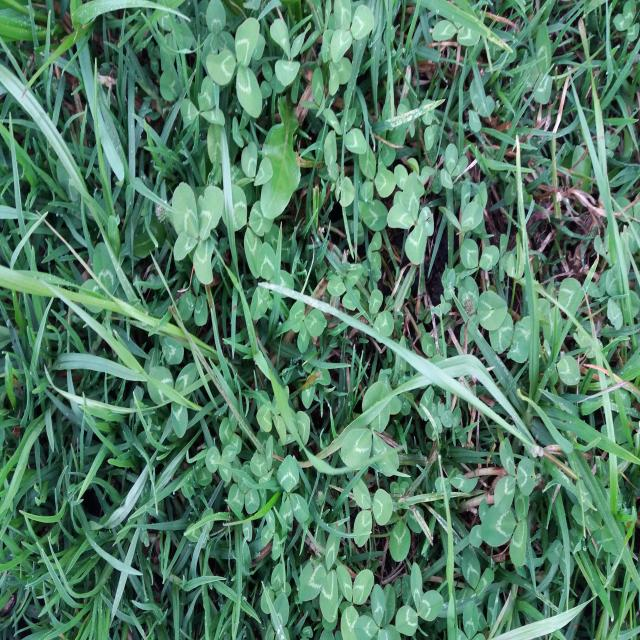Four Leaf Clover: (172, 182, 224, 284)
